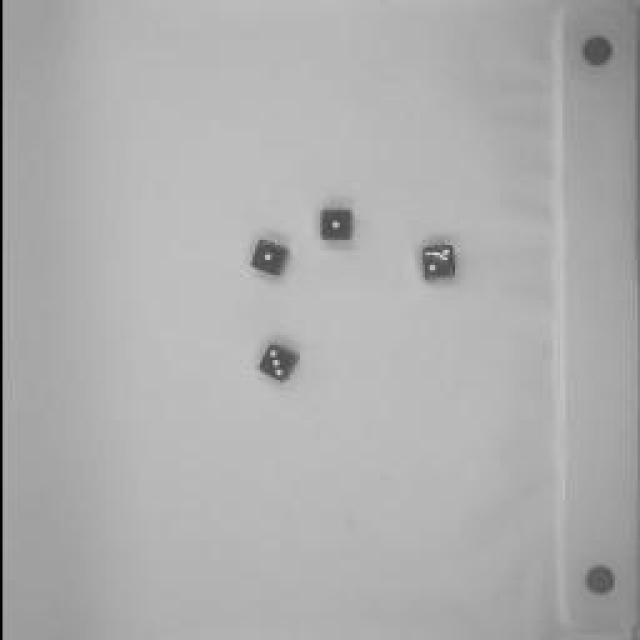dice_1: (245, 234, 290, 284), (310, 205, 352, 250)
dice_2: (416, 242, 454, 286)
dice_3: (248, 335, 308, 390)
